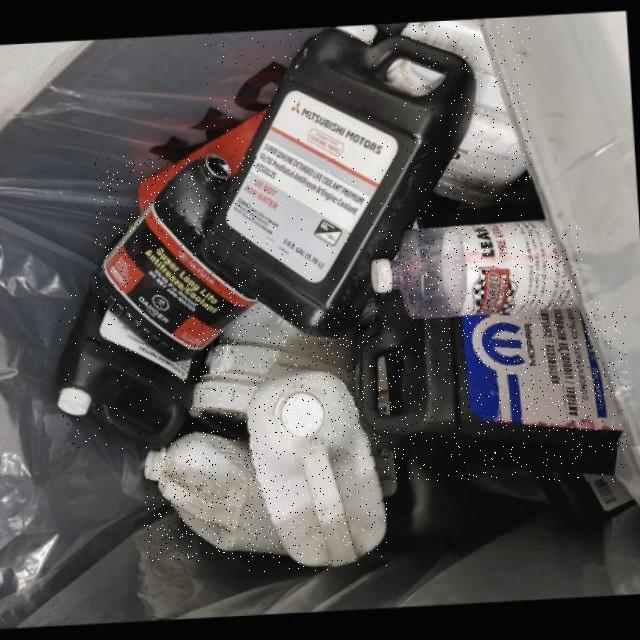plastic: (205, 28, 482, 343), (360, 301, 627, 481), (94, 156, 260, 365), (248, 374, 388, 571), (189, 304, 375, 443), (60, 291, 205, 449), (412, 24, 531, 215), (376, 225, 582, 323), (144, 437, 285, 560)
